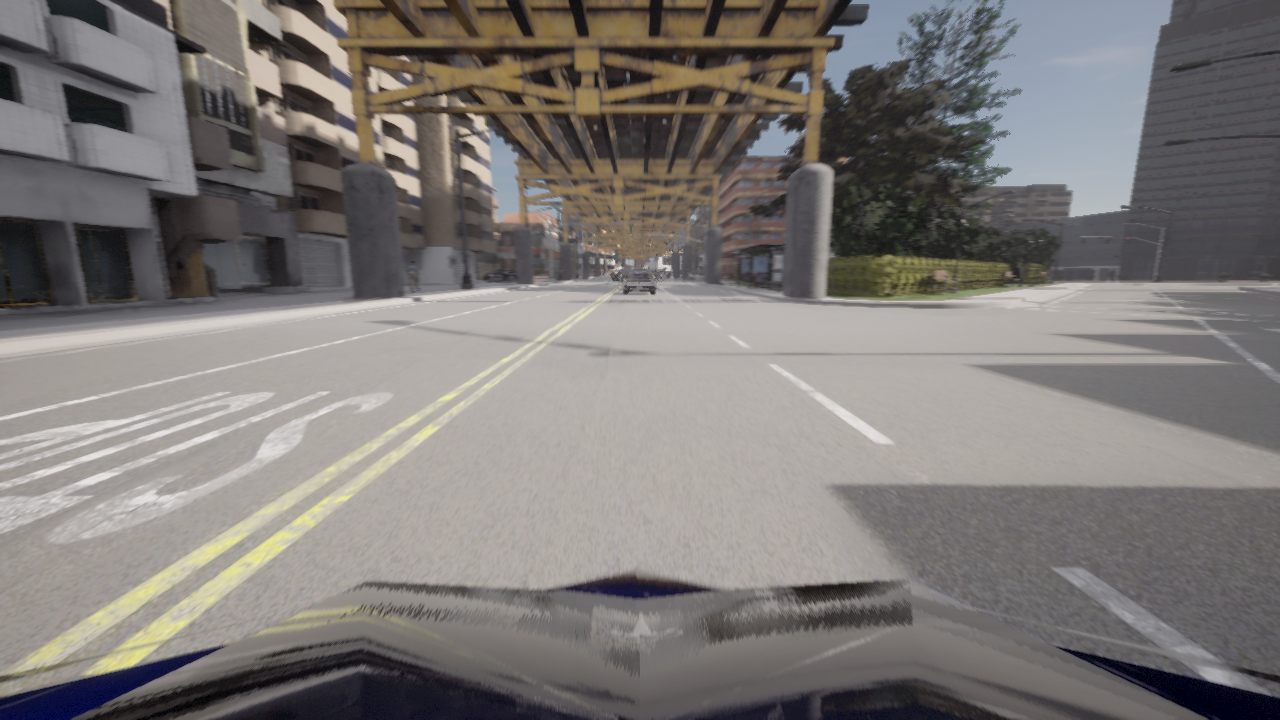cyclist: (0, 569, 1279, 719), (605, 253, 672, 282), (623, 272, 655, 293), (483, 270, 516, 281), (686, 270, 704, 282), (507, 271, 515, 274), (633, 270, 646, 271)
pedestrian: (407, 260, 419, 291)
